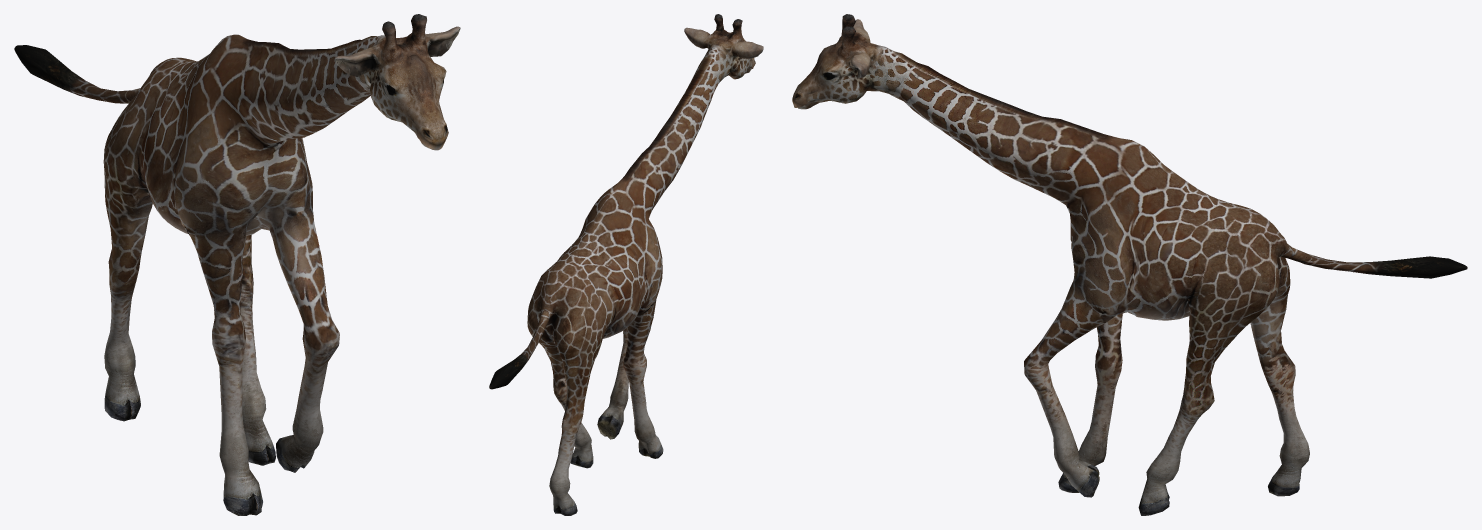
Rendered from giraffe.glb.
The picture shows the model from 3 angles, left to right: view 1: azimuth 30°, elevation 25°; view 2: azimuth 150°, elevation 25°; view 3: azimuth 270°, elevation 25°; orthographic projection. The views are drawn at different scales.
Parts seen in each view (by area): view 1: HP_Msh; view 2: HP_Msh; view 3: HP_Msh.
Part boxes in pixels (x1,y1,x2,y2): HP_Msh: (14, 14, 460, 515); HP_Msh: (489, 14, 763, 515); HP_Msh: (792, 14, 1467, 515).
Bounding box in the file's own units: 0.1 × 0.4093 × 0.5265.
1 material, 1 textured.
